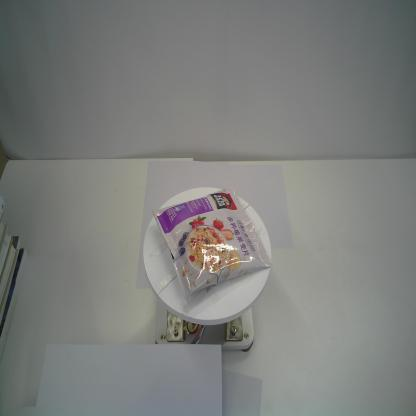Instant Drink: (150, 185, 273, 298)
